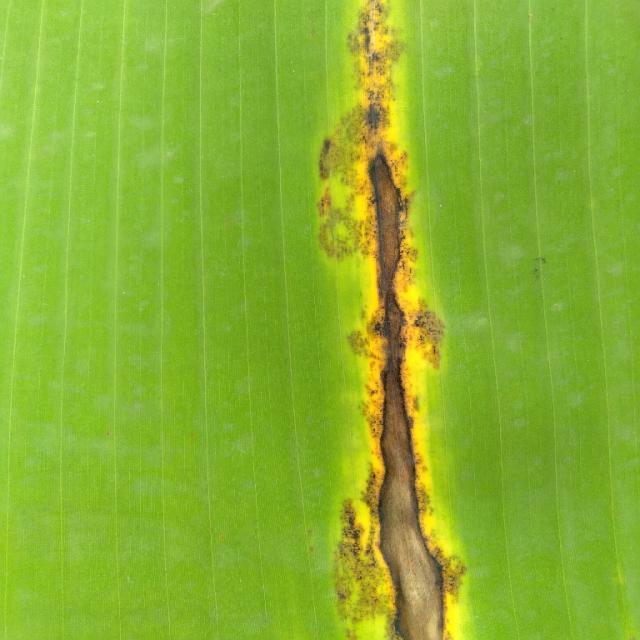Early_rust: (244, 0, 538, 640)
